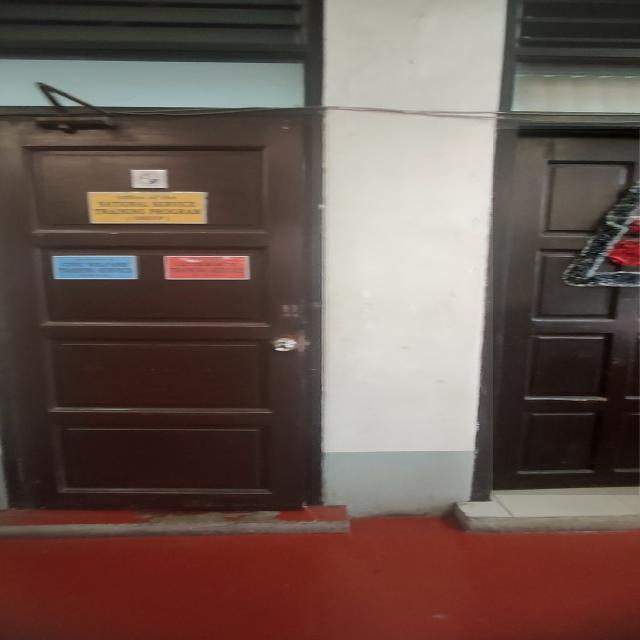door: (0, 109, 312, 520), (494, 129, 640, 495)
